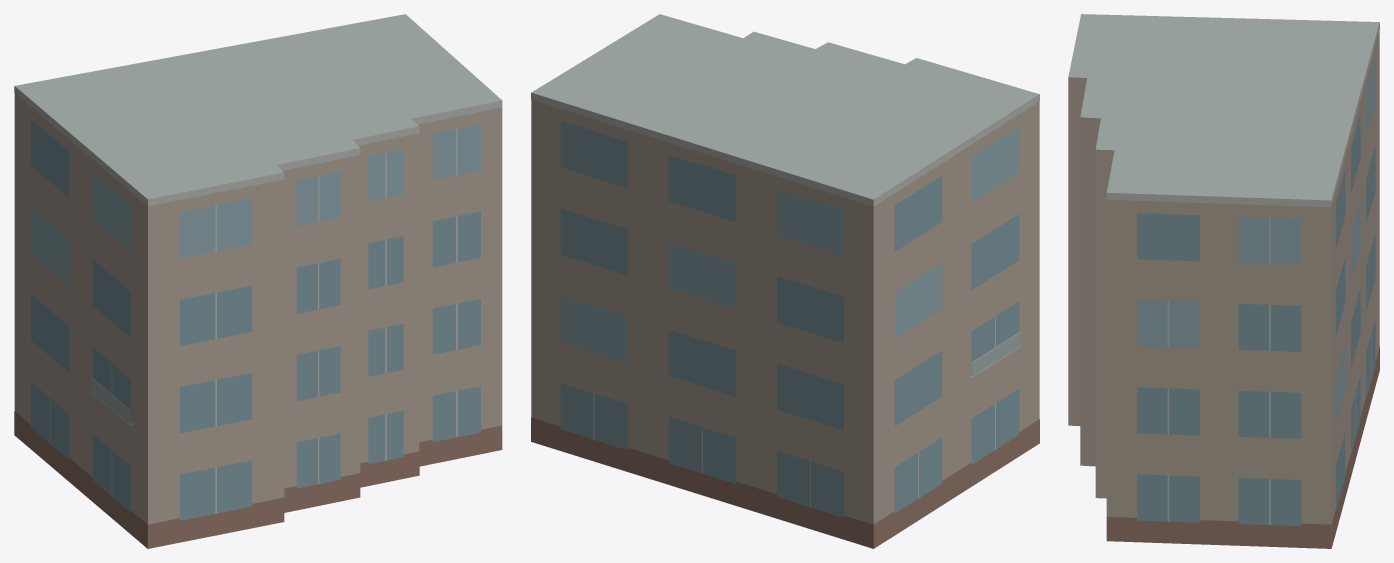
Rendered from survey-upis-32678960.glb.
3 views of the same model, side by side, from view 1: azimuth 30°, elevation 25°; view 2: azimuth 150°, elevation 25°; view 3: azimuth 270°, elevation 25° (orthographic).
Parts seen in each view (by area): view 1: survey-upis-32678960.tmp; view 2: survey-upis-32678960.tmp; view 3: survey-upis-32678960.tmp.
Part boxes in pixels (x1=…): survey-upis-32678960.tmp: x1=14, y1=14, x2=502, y2=548; survey-upis-32678960.tmp: x1=531, y1=14, x2=1039, y2=548; survey-upis-32678960.tmp: x1=1068, y1=14, x2=1379, y2=548.
Size of the model in its own units: 14.02 by 12.2 by 9.9.
